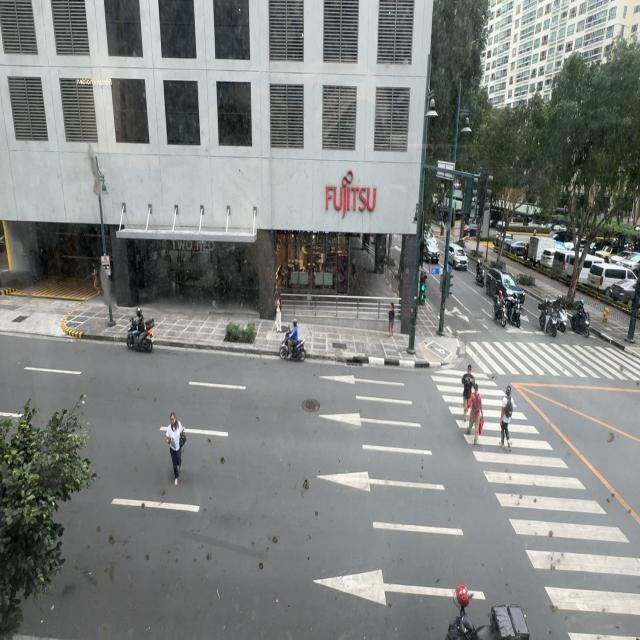crossing: (500, 384, 516, 450), (466, 383, 483, 445), (462, 364, 476, 422)
jaywalking: (167, 411, 184, 485)
